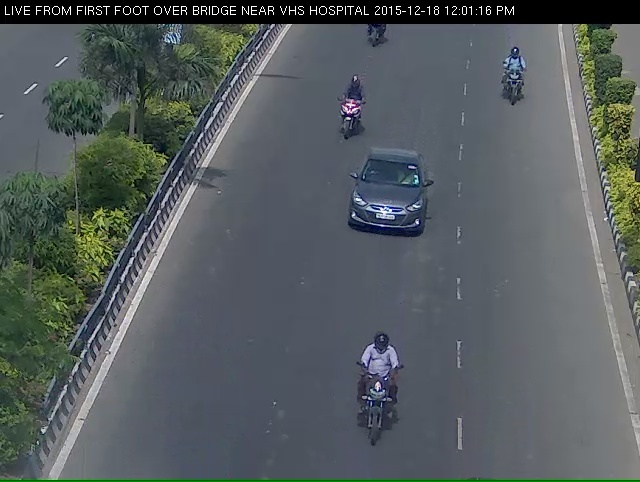Car: (344, 161, 433, 251)
Person: (351, 358, 406, 472), (320, 86, 361, 146), (496, 51, 530, 113), (354, 25, 387, 58)
